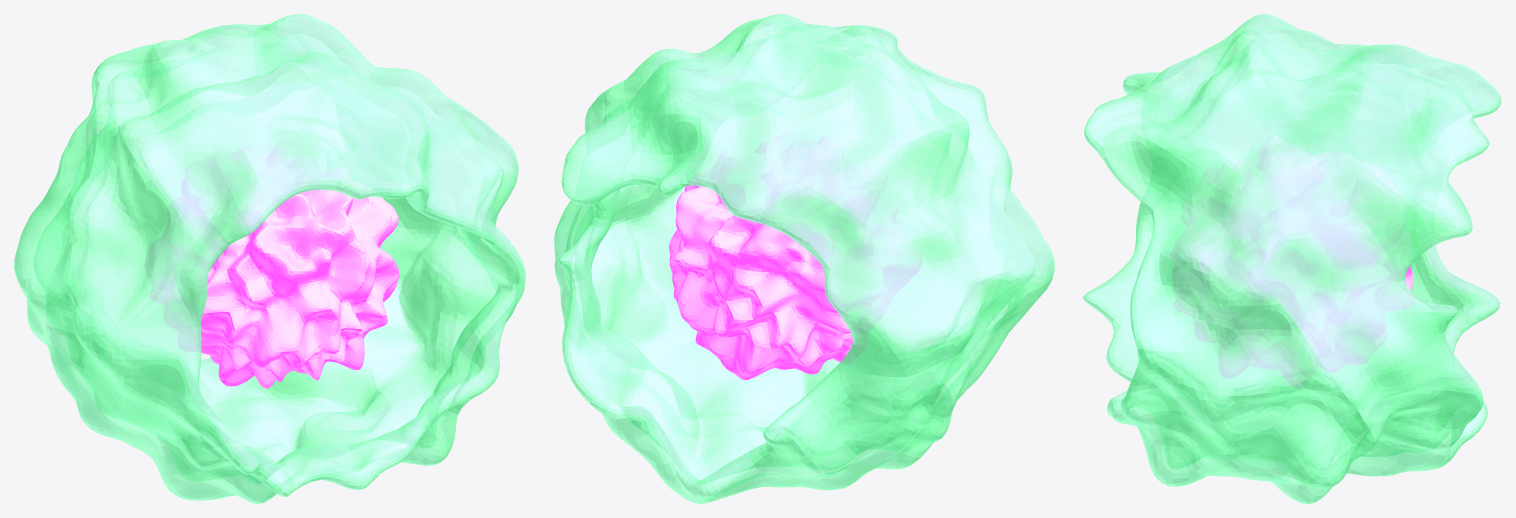
The model's file is Bullet.fbx.
The picture shows the model from 3 angles, left to right: view 1: azimuth 30°, elevation 25°; view 2: azimuth 150°, elevation 25°; view 3: azimuth 270°, elevation 25°; orthographic projection.
Parts seen in each view (by area): view 1: Icosphere.001, Icosphere; view 2: Icosphere.001, Icosphere; view 3: Icosphere.001, Icosphere.
Boxes of the visible parts, x1,y1,x2,y2 form: Icosphere.001: (14, 14, 525, 503); Icosphere: (145, 140, 399, 388); Icosphere.001: (554, 14, 1054, 503); Icosphere: (669, 133, 921, 380); Icosphere.001: (1083, 14, 1501, 503); Icosphere: (1170, 136, 1413, 388).
Bounding box in the file's own units: 410 × 374 × 338.
